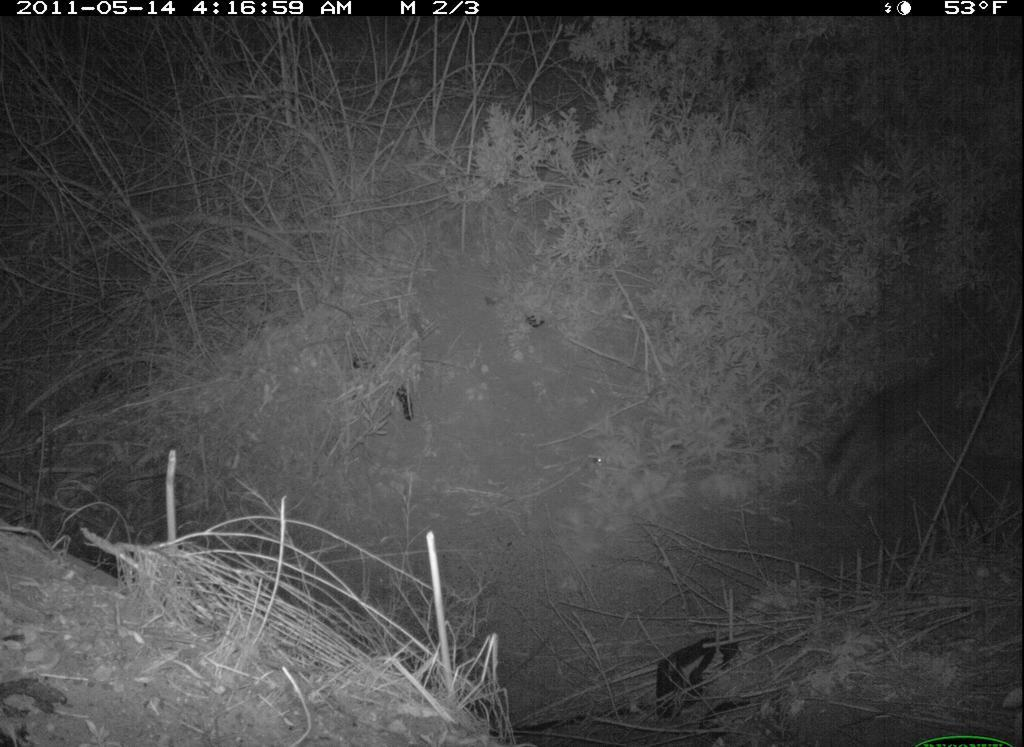coyote: (826, 342, 1007, 515)
